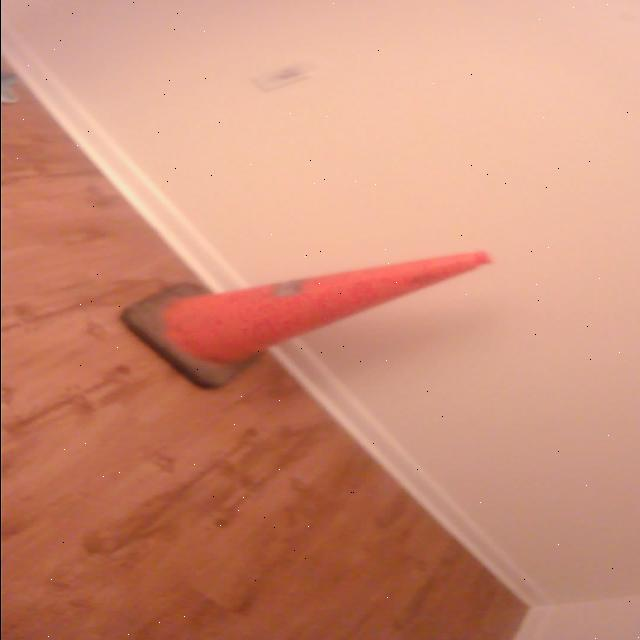traffic cone: (114, 248, 498, 394)
